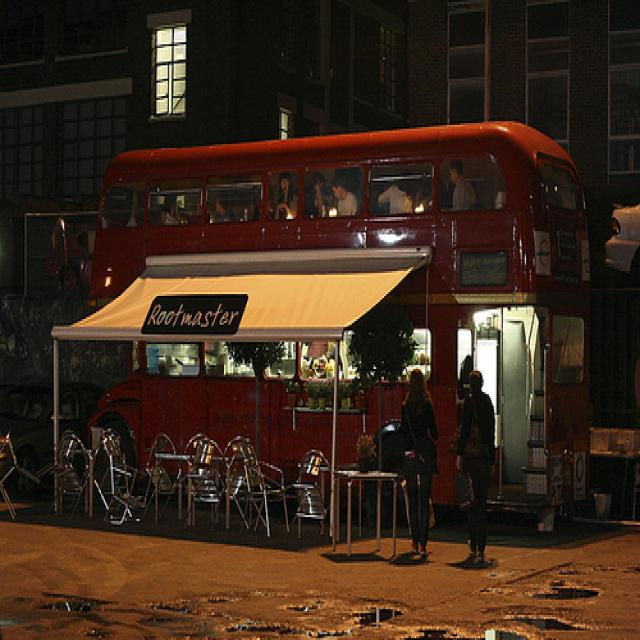Bus: (51, 107, 623, 561)
People: (391, 357, 446, 564), (459, 364, 497, 577), (326, 150, 383, 255), (439, 150, 497, 240), (254, 155, 300, 249), (397, 150, 424, 245), (158, 191, 188, 257), (309, 157, 329, 246), (212, 181, 234, 260)
Table: (342, 457, 423, 582)
chair: (51, 427, 108, 551), (292, 429, 338, 556), (233, 430, 281, 551), (107, 433, 152, 547), (149, 421, 186, 544), (0, 419, 33, 544), (197, 424, 225, 529)
